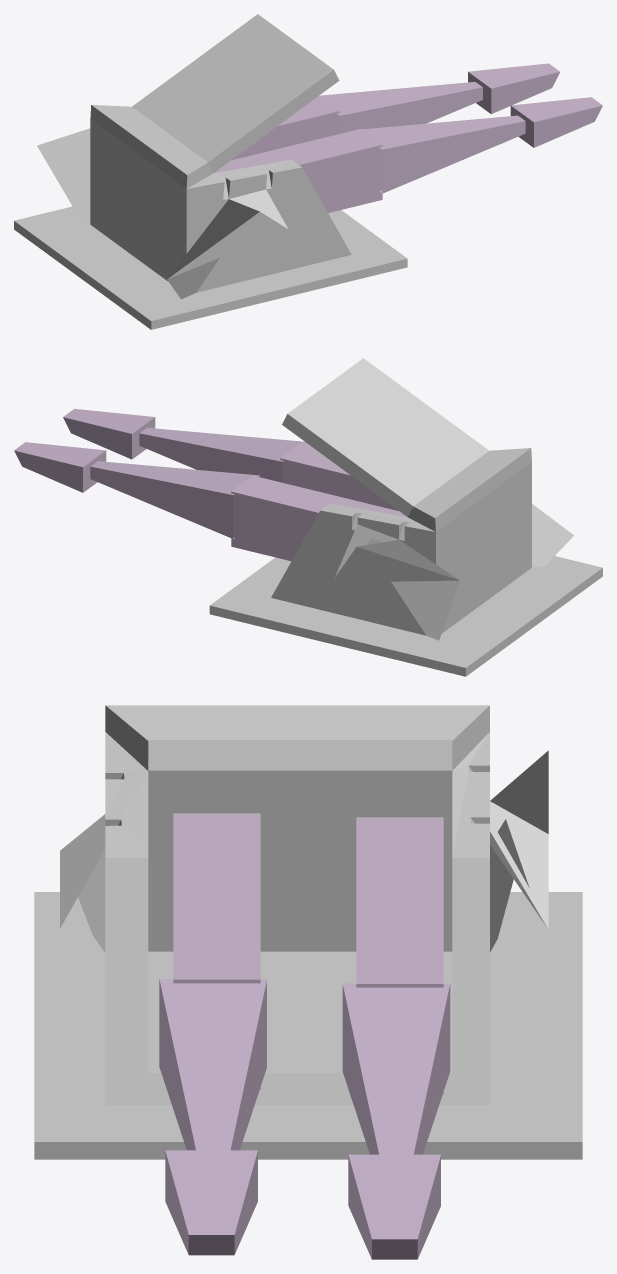
Rendered from turret_centered.fbx.
The picture shows the model from 3 angles, top to bottom: view 1: azimuth 30°, elevation 25°; view 2: azimuth 150°, elevation 25°; view 3: azimuth 270°, elevation 25°; orthographic projection. The views are drawn at different scales.
Parts seen in each view (by area): view 1: body, arrow, plane; view 2: body, arrow, plane; view 3: body, arrow, plane.
Part boxes in pixels (x1,y1,x2,y2): body: [37, 14, 351, 299]; arrow: [214, 63, 602, 212]; plane: [14, 206, 407, 329]; body: [271, 358, 573, 640]; arrow: [14, 409, 407, 561]; plane: [209, 556, 602, 676]; body: [60, 705, 548, 1104]; arrow: [159, 813, 450, 1259]; plane: [34, 892, 582, 1159].
Size of the model in its own units: 2.81 by 1.04 by 1.36.
